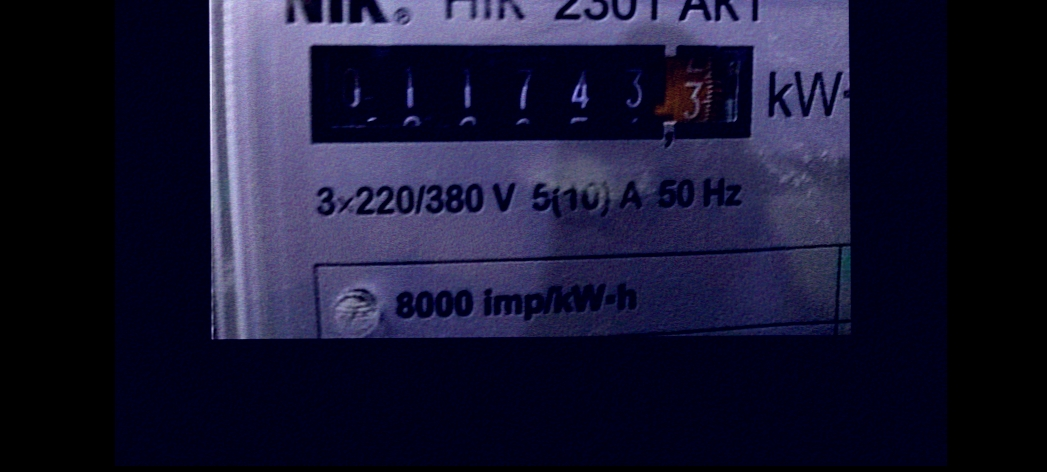0: (337, 63, 367, 110)
1: (457, 63, 479, 112), (402, 64, 420, 112)
3: (621, 64, 650, 111), (681, 78, 706, 122)
4: (567, 64, 596, 112)
7: (513, 65, 538, 113)
screen: (295, 32, 762, 154)
